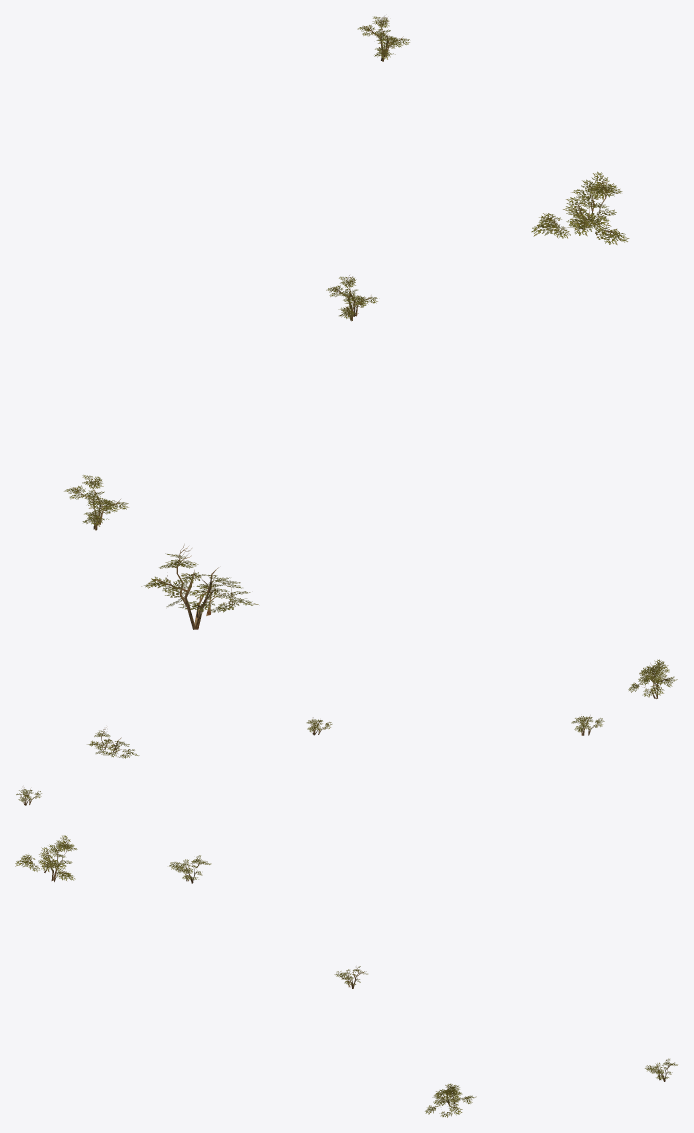
Rendered from S_Tree_Yellow059_A.FBX.
3 renders of one model, top to bottom at view 1: azimuth 30°, elevation 25°; view 2: azimuth 150°, elevation 25°; view 3: azimuth 270°, elevation 25°, orthographic. The views are drawn at different scales.
Parts seen in each view (by area): view 1: S_Tree_Yellow059_005, S_Tree_Yellow059_002, S_Tree_Yellow059_001; view 2: S_Tree_Yellow059_002, S_Tree_Yellow059_005, S_Tree_Yellow059_001; view 3: S_Tree_Yellow059_002, S_Tree_Yellow059_005, S_Tree_Yellow059_001.
Part boxes in pixels (box(x1,y1,x2,y2)): S_Tree_Yellow059_005: box(531, 171, 629, 244); S_Tree_Yellow059_002: box(141, 544, 258, 629); S_Tree_Yellow059_001: box(64, 475, 128, 530); S_Tree_Yellow059_002: box(628, 659, 677, 698); S_Tree_Yellow059_005: box(87, 727, 139, 758); S_Tree_Yellow059_001: box(571, 715, 604, 735); S_Tree_Yellow059_002: box(15, 835, 77, 881); S_Tree_Yellow059_005: box(425, 1083, 476, 1117); S_Tree_Yellow059_001: box(169, 855, 211, 883).
Bounding box in the file's own units: 13099 × 1805 × 16084.
